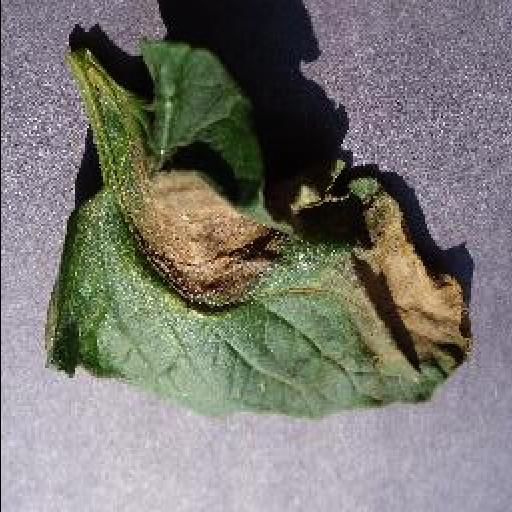disease_tomato: (46, 46, 478, 418)
